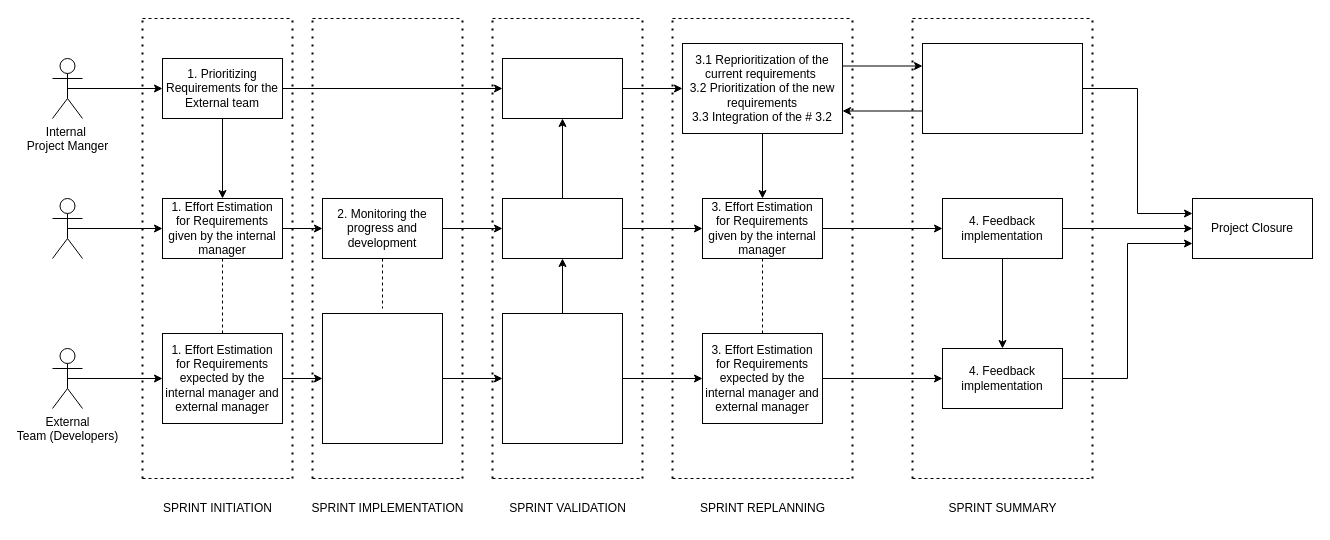
This 1330x540 diagram has some shape labels left out. Here are the shapes that lost their labels. From the top down, the box of each, then its label:
(502, 58, 622, 118): 2. Validating the Functionalities
(922, 42, 1082, 134): 4.1 Feedback and Suggestions 4.2 Approval
(52, 198, 82, 258): External Project Manger
(502, 198, 622, 258): 2. Review: Progress
(322, 312, 442, 444): 2. Sprint Initation for Development of the current requirements
(502, 312, 622, 444): 2. Presentation and Demo
